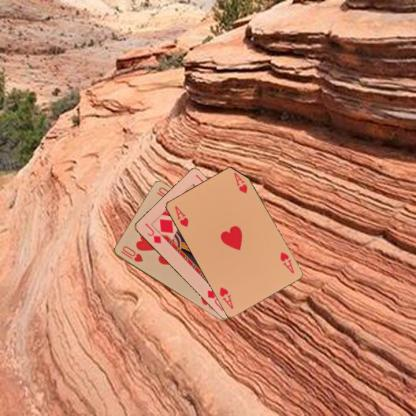10h: (118, 244, 144, 264)
Ah: (278, 249, 296, 275), (172, 204, 190, 228)
Jd: (142, 220, 162, 245)
